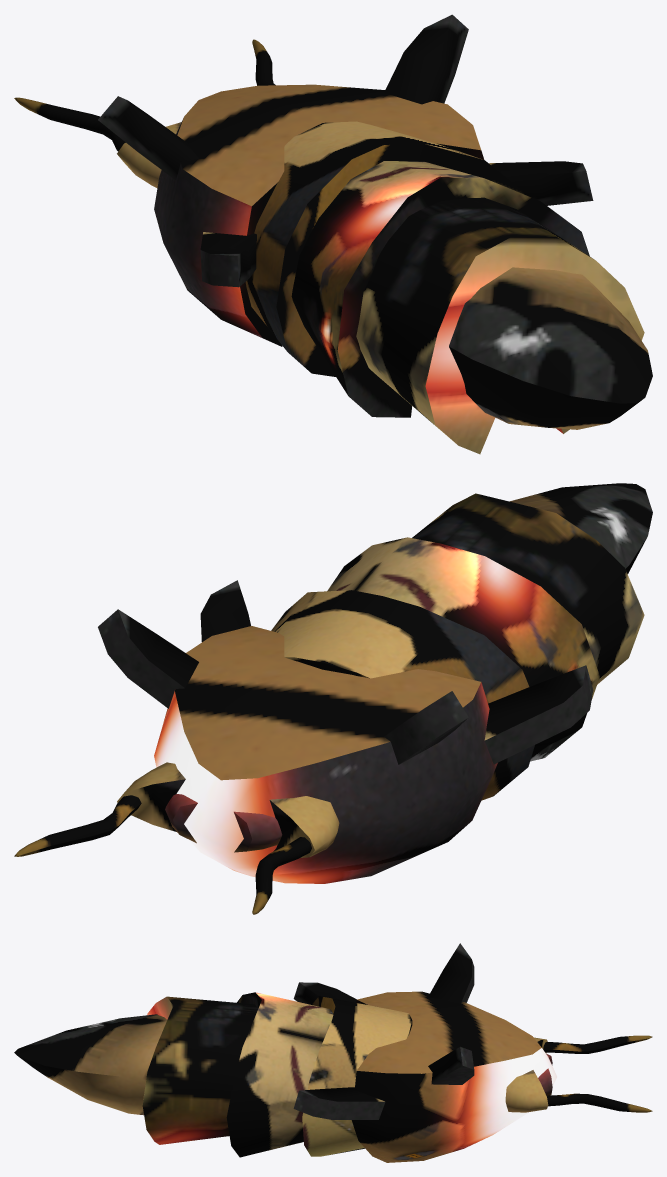
The model's file is ship19g.fbx.
3 views of the same model, one above another, from view 1: azimuth 30°, elevation 25°; view 2: azimuth 150°, elevation 25°; view 3: azimuth 270°, elevation 25° (orthographic). The views are drawn at different scales.
Parts seen in each view (by area): view 1: PipelineFBX; view 2: PipelineFBX; view 3: PipelineFBX.
Boxes of the visible parts, box(x1,y1,x2,y2) form: PipelineFBX: box(14, 14, 652, 454); PipelineFBX: box(14, 483, 652, 914); PipelineFBX: box(14, 943, 652, 1162).
Bounding box in the file's own units: 71.16 × 42.54 × 164.
1 material, 1 textured.
